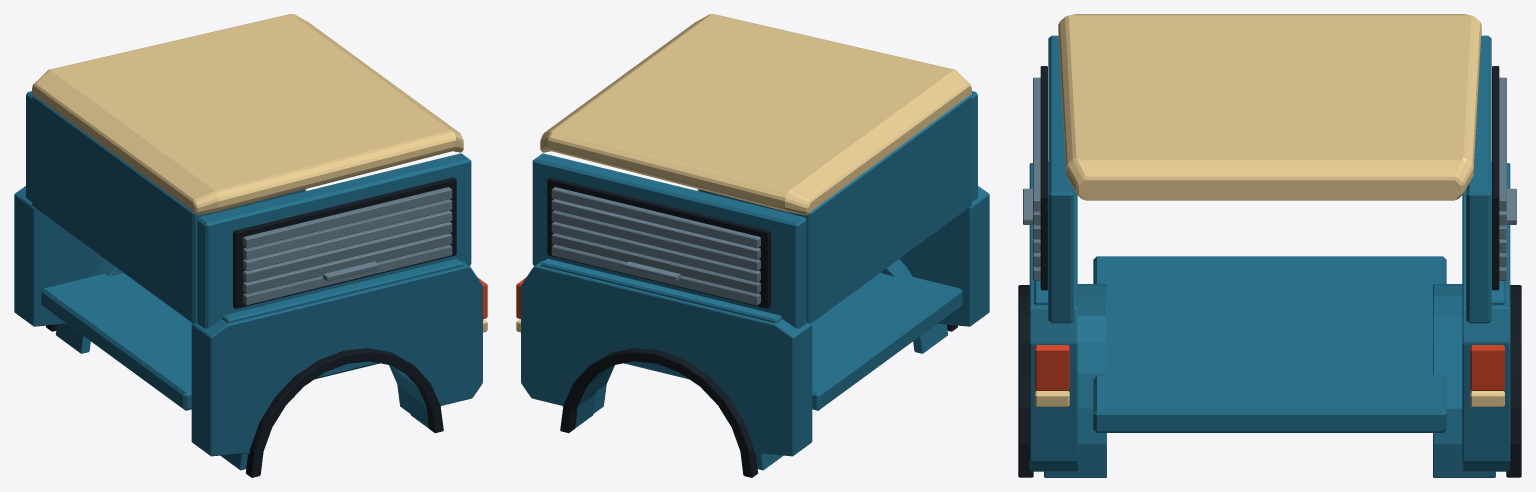
The model's file is EC_ServiceBody.fbx.
3 renders of one model, left to right at view 1: azimuth 30°, elevation 25°; view 2: azimuth 150°, elevation 25°; view 3: azimuth 270°, elevation 25°, orthographic. The views are drawn at different scales.
Visible parts, largest first — view 1: EC_ServiceBody; view 2: EC_ServiceBody; view 3: EC_ServiceBody.
Boxes of the visible parts, x1,y1,x2,y2 form: EC_ServiceBody: (14, 14, 487, 477); EC_ServiceBody: (516, 14, 989, 477); EC_ServiceBody: (1018, 14, 1521, 477).
Bounding box in the file's own units: 1.49 × 1.41 × 1.9.
